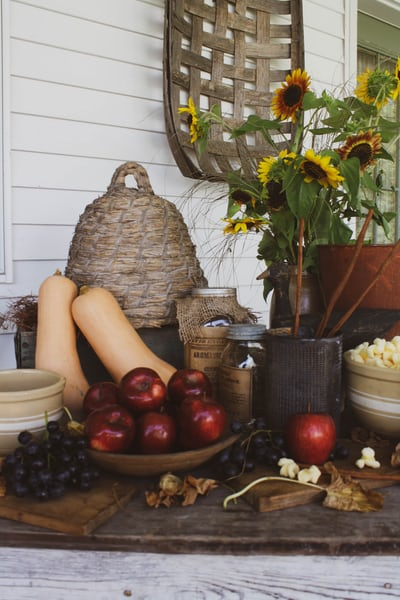apple: (281, 405, 340, 470), (172, 395, 226, 457), (82, 409, 133, 455), (131, 406, 176, 457), (120, 364, 165, 413), (162, 366, 213, 405), (79, 379, 122, 417)
